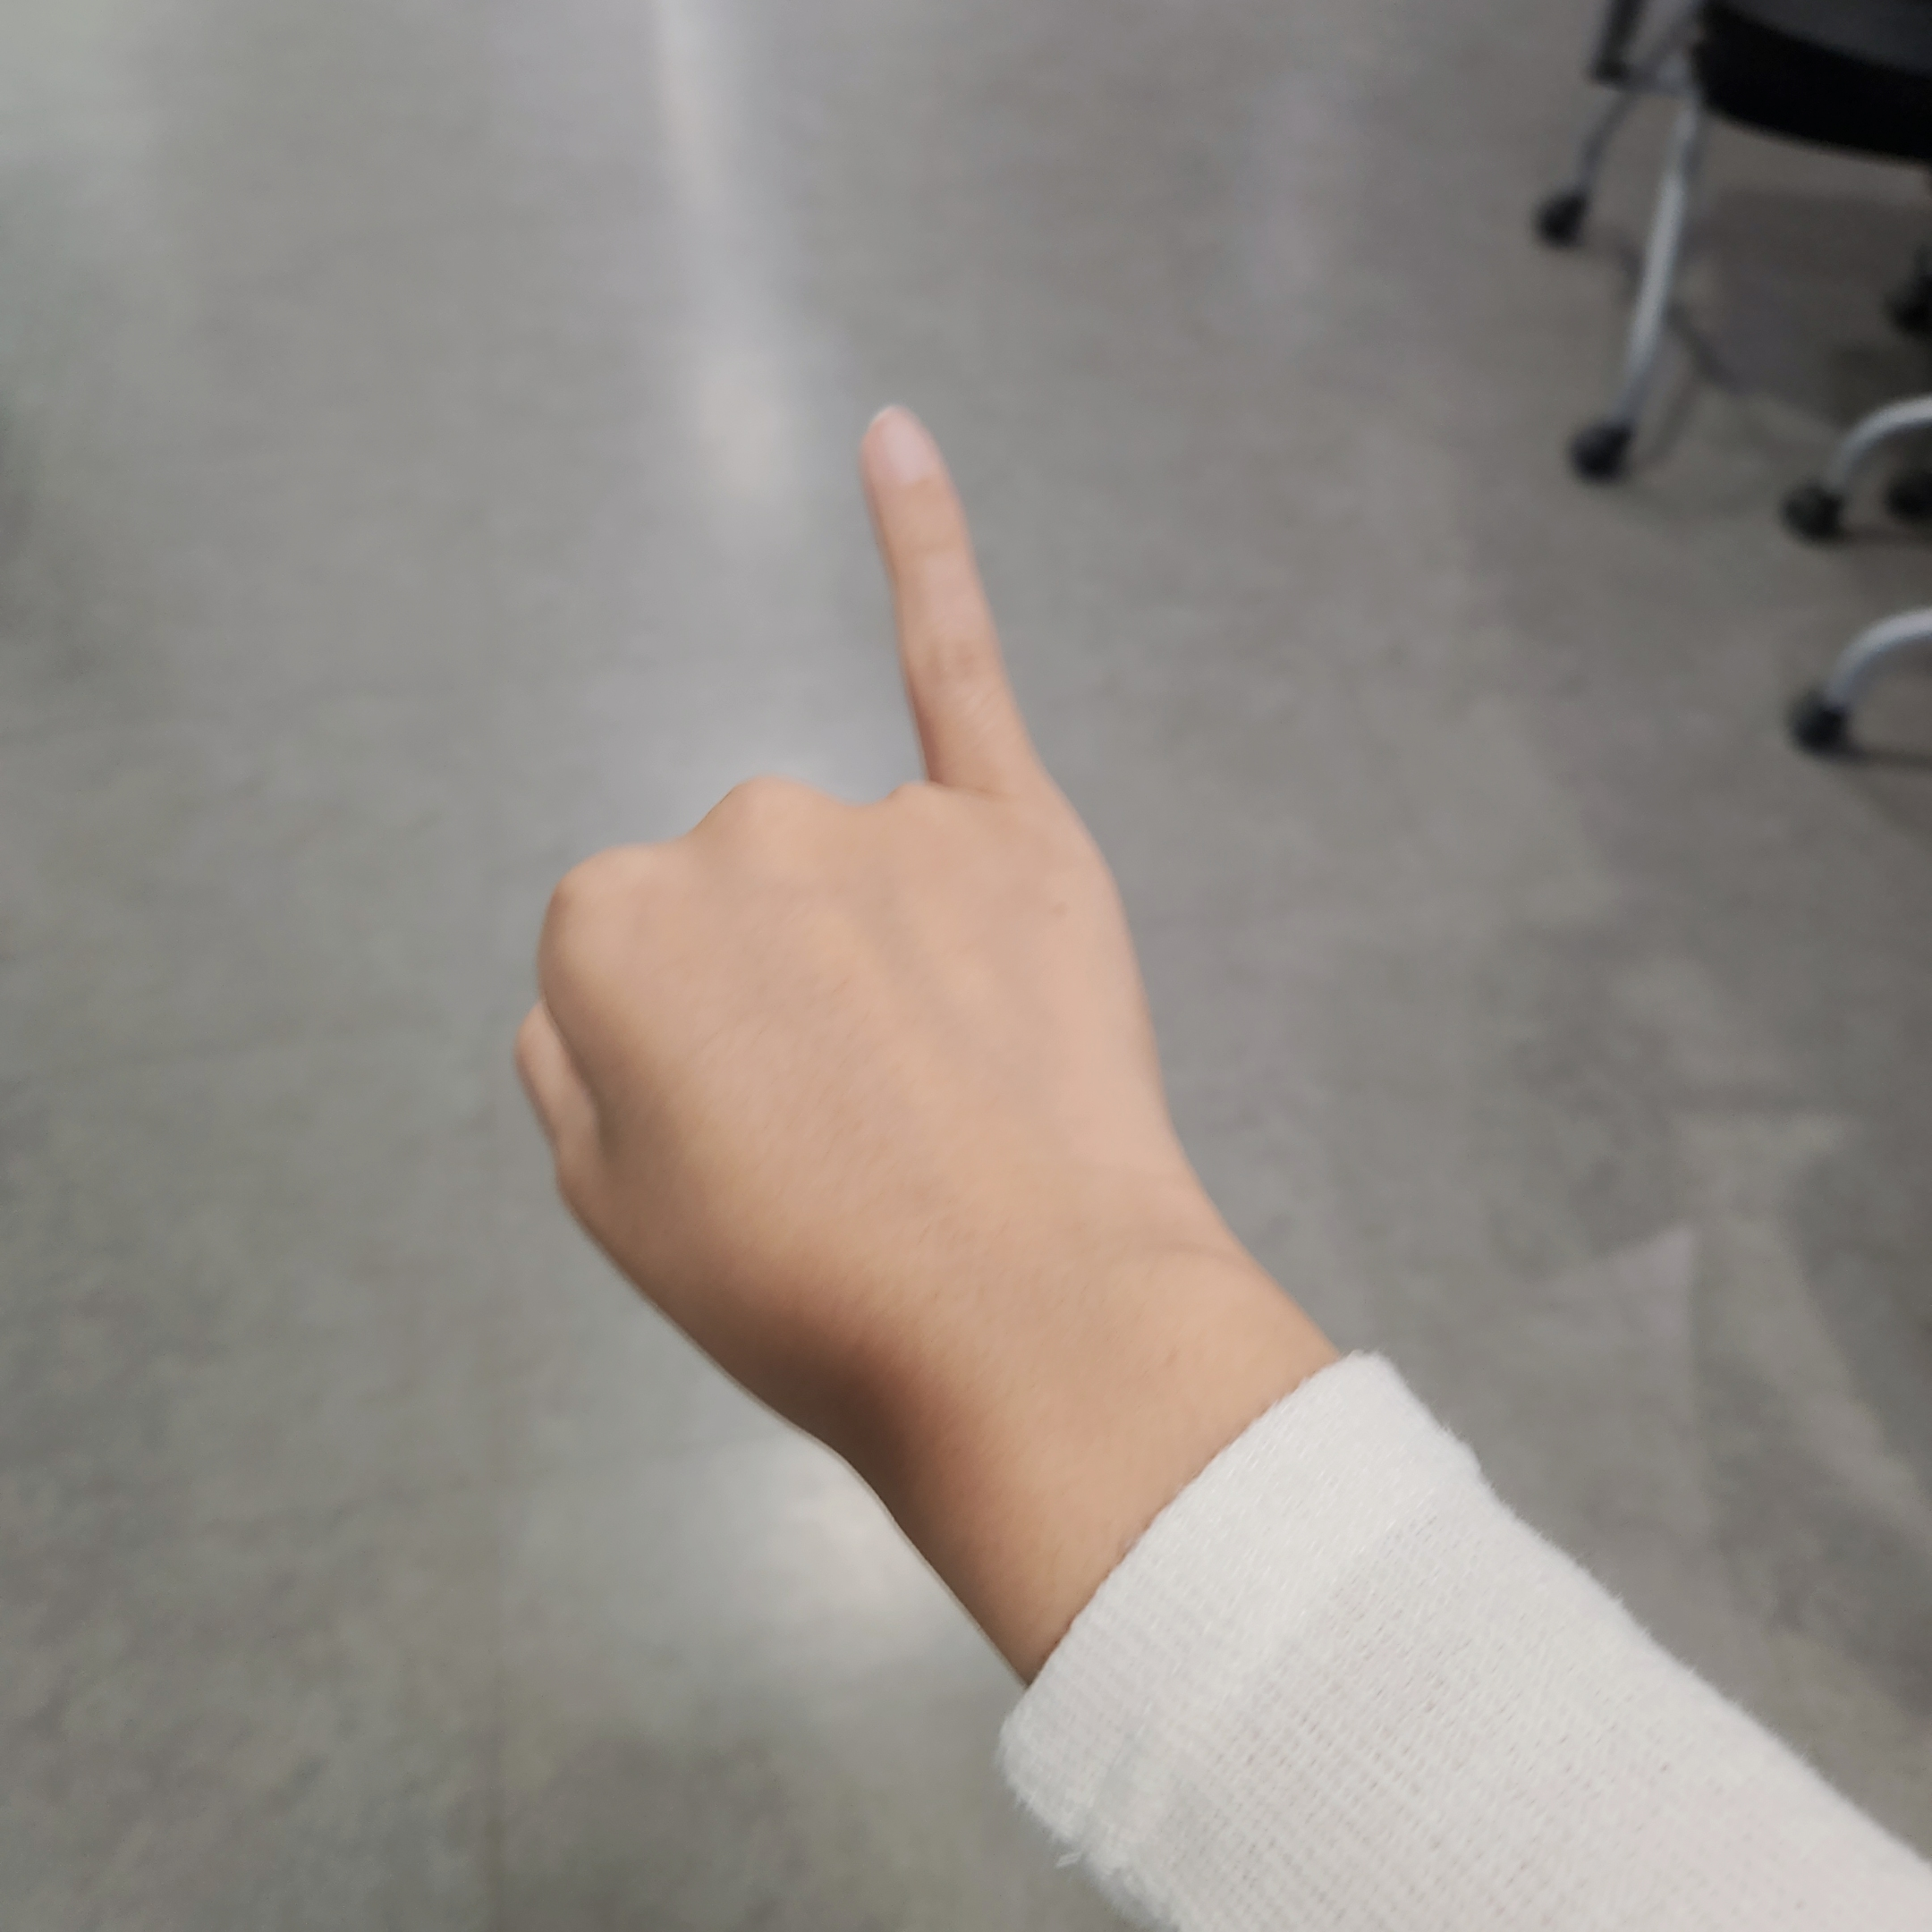fine: (511, 407, 1189, 1438)
